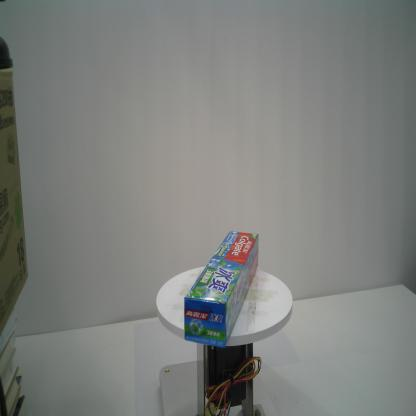Personal Hygiene: (184, 231, 259, 348)
